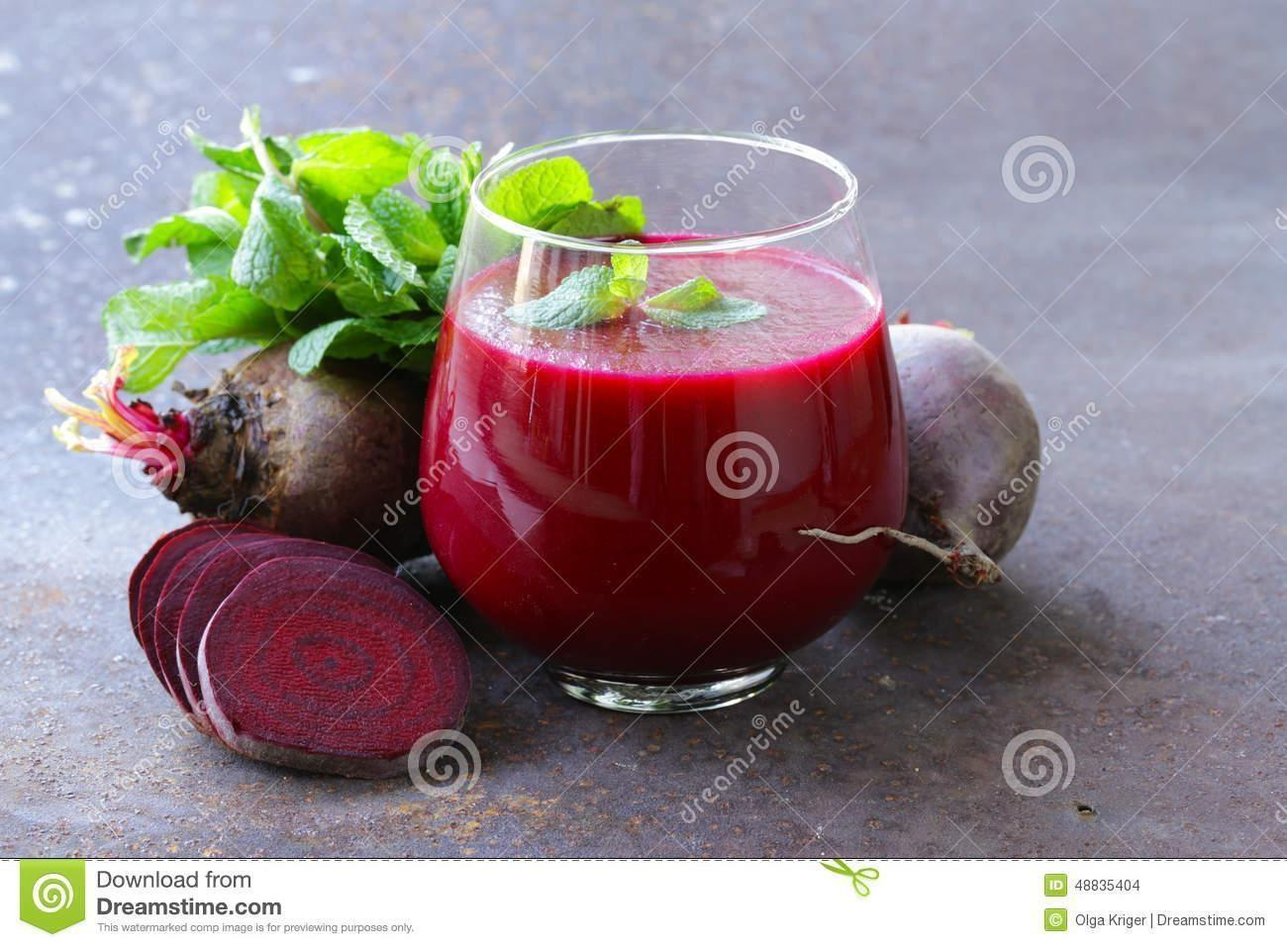glass-normal: (414, 128, 913, 714)
